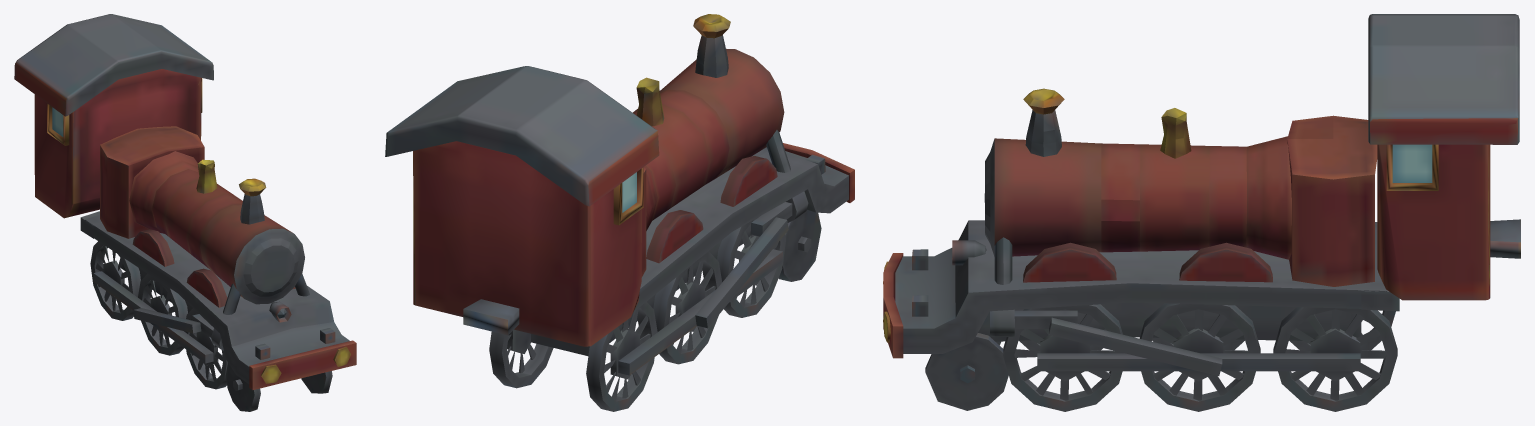
File: 火车头.glb
3 renders of one model, left to right at view 1: azimuth 30°, elevation 25°; view 2: azimuth 150°, elevation 25°; view 3: azimuth 270°, elevation 25°, orthographic. The views are drawn at different scales.
Visible parts, largest first — view 1: huoche003; view 2: huoche003; view 3: huoche003.
Boxes of the visible parts, bbox=[...] form: huoche003: bbox=[14, 14, 356, 411]; huoche003: bbox=[385, 14, 854, 411]; huoche003: bbox=[883, 14, 1520, 411].
Bounding box in the file's own units: 1.48 × 2.32 × 3.8.
1 material, 1 textured.
